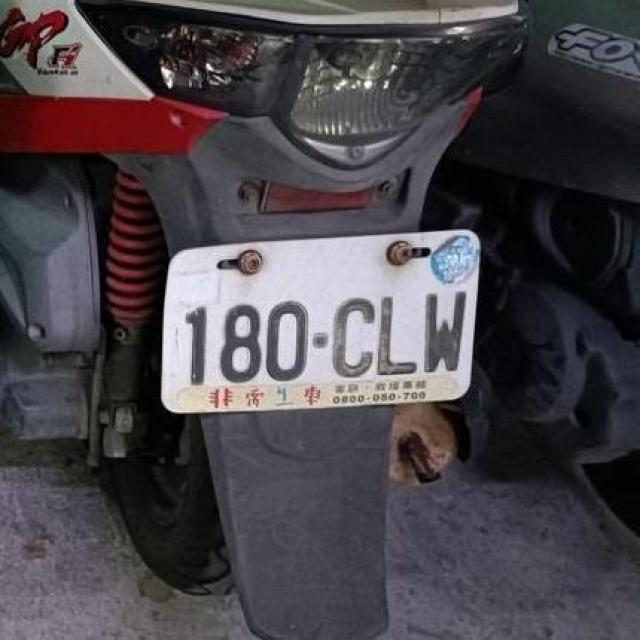W: (150, 223, 493, 426)
